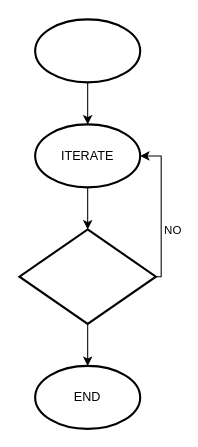
The diagram is 198 pixels wide and 447 high, and some of its shapes have lost their labels. Each missing label, with the centre of its shape:
"End conditions reached?" belongs at (x=87, y=276).
"INIT" belongs at (x=87, y=50).
